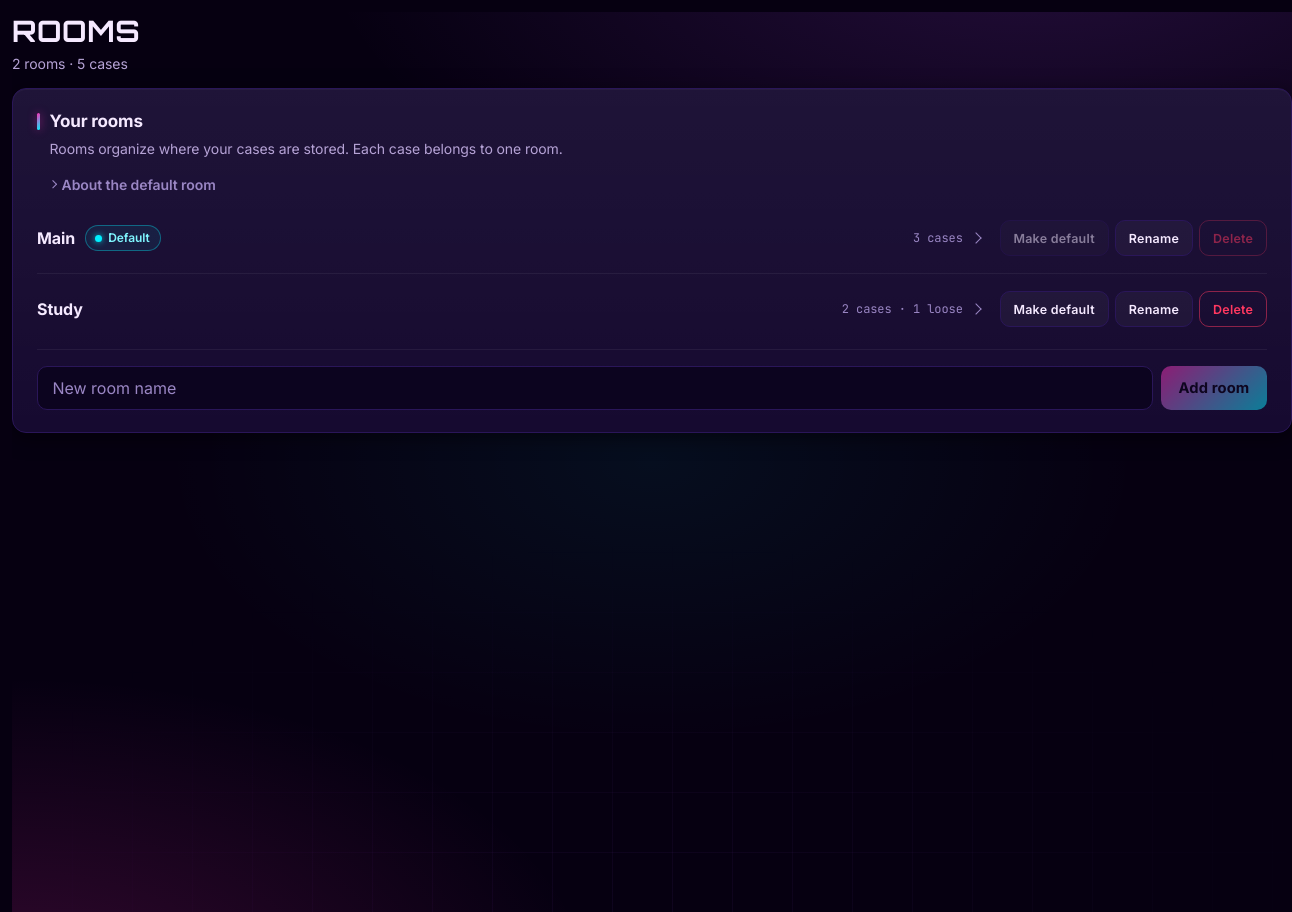
Test: RoomsPage › renames a row in place: Enter saves, and the new name shows before the server answers
This screenshot has width=1292, height=912.
Click the button named "Rename Study": click(1154, 309) [1115, 291, 1193, 327]
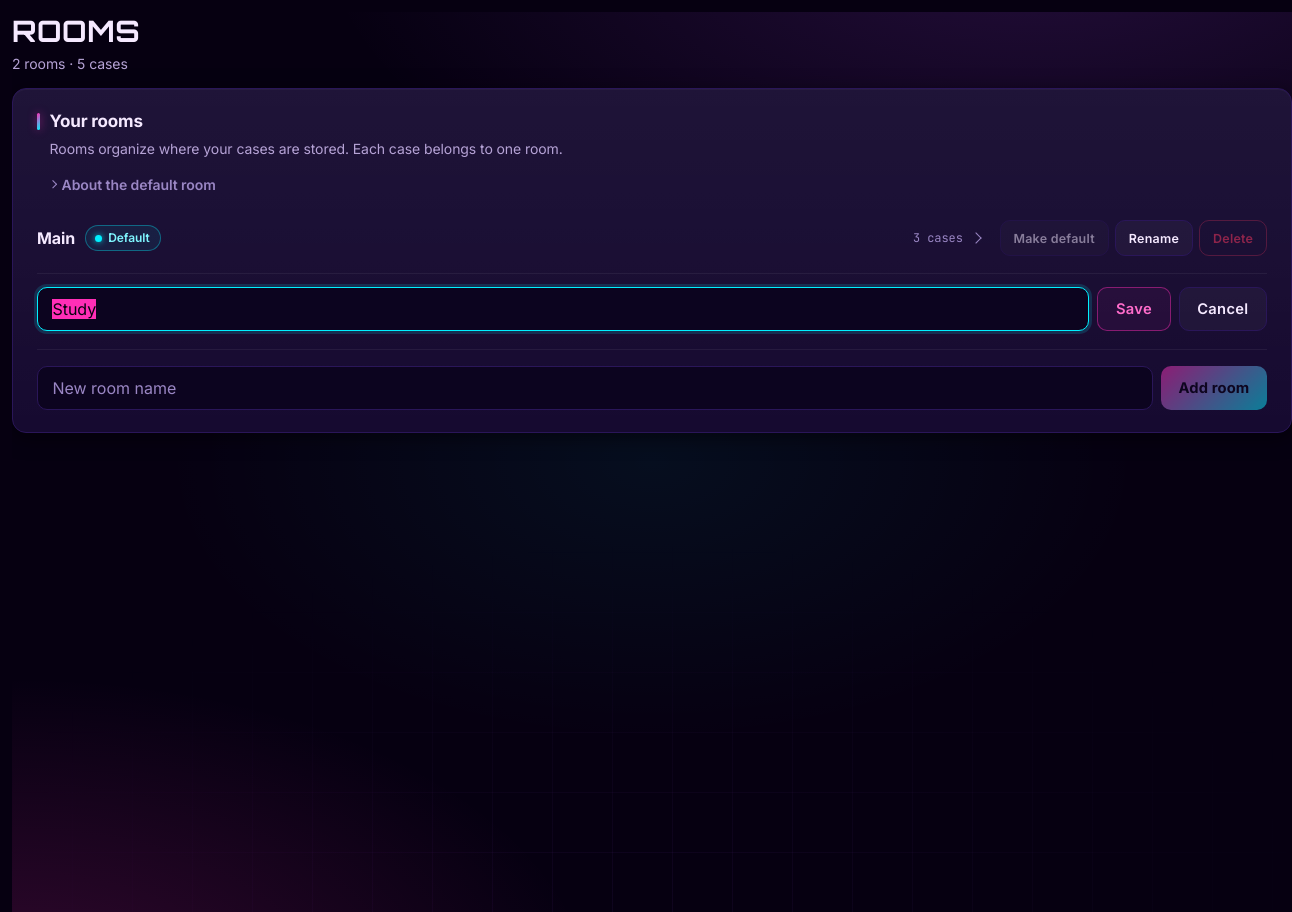
Expected: the field named "New name for Study" holds "Study", [37, 287, 1089, 331]
Type keys "Den{Enter}"
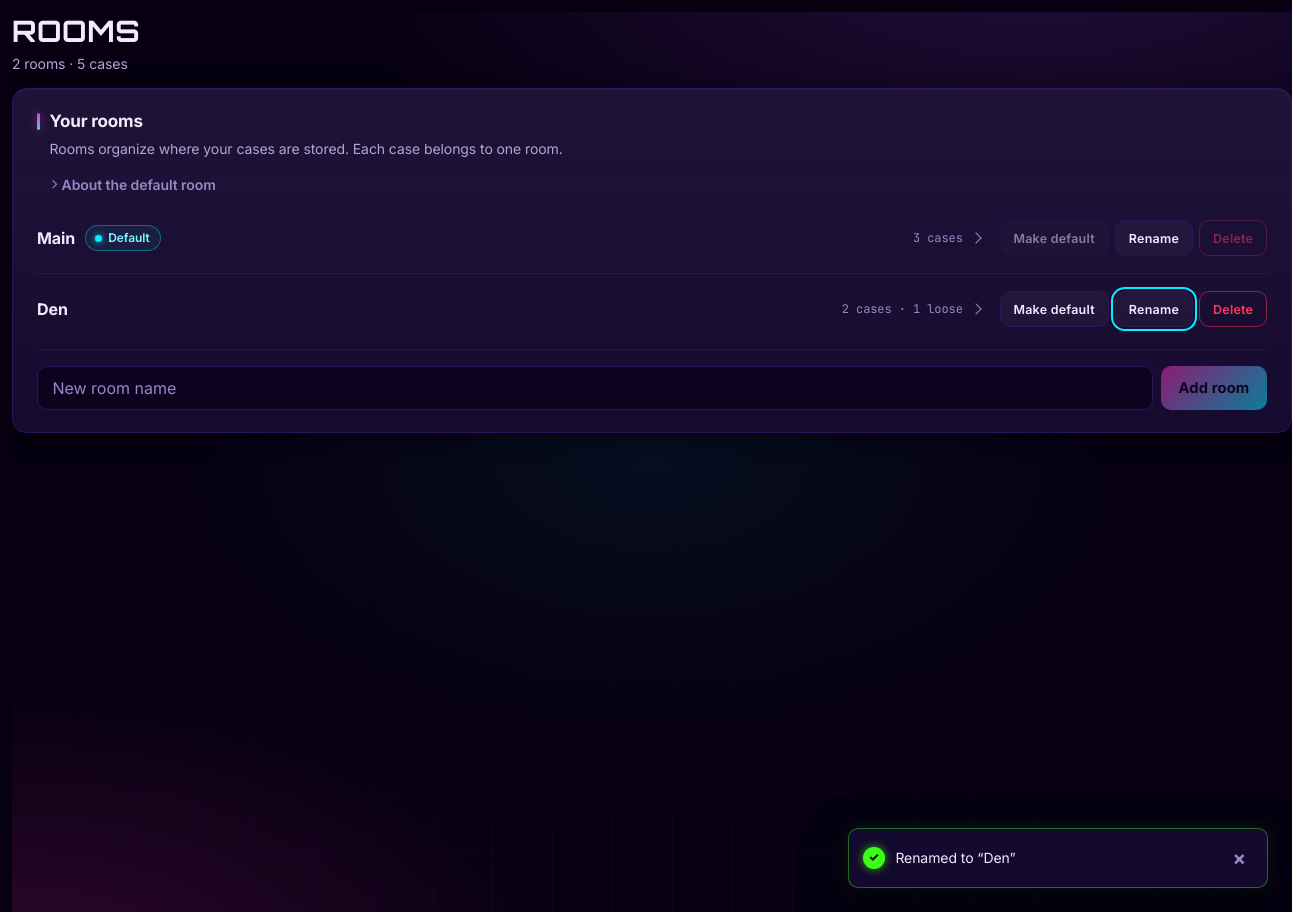
Expected: the field labelled "New name for Study" is not shown
Expected: the text "Renamed to “Den”" is shown, [895, 849, 1016, 866]
